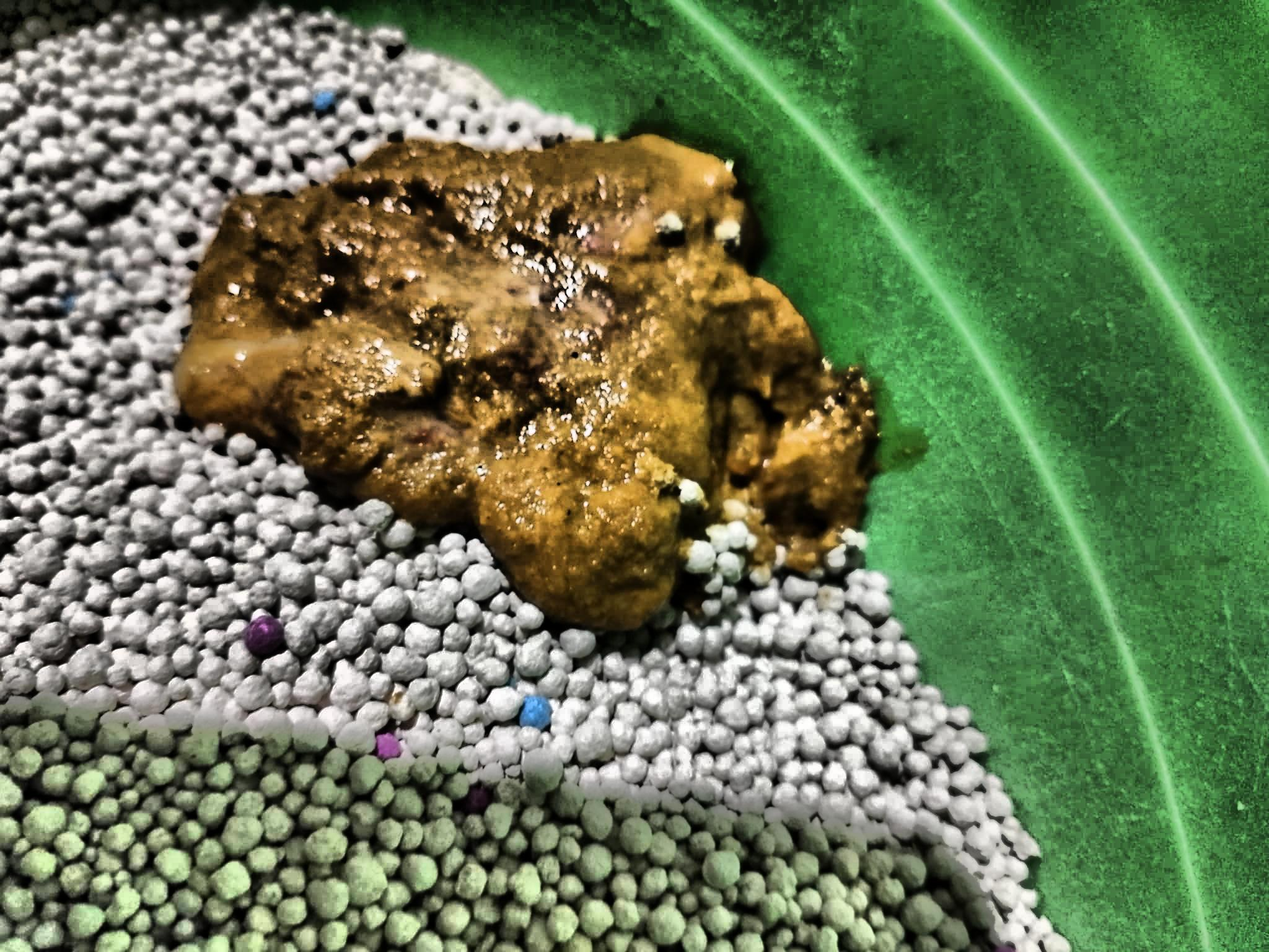poop: (178, 134, 876, 628)
